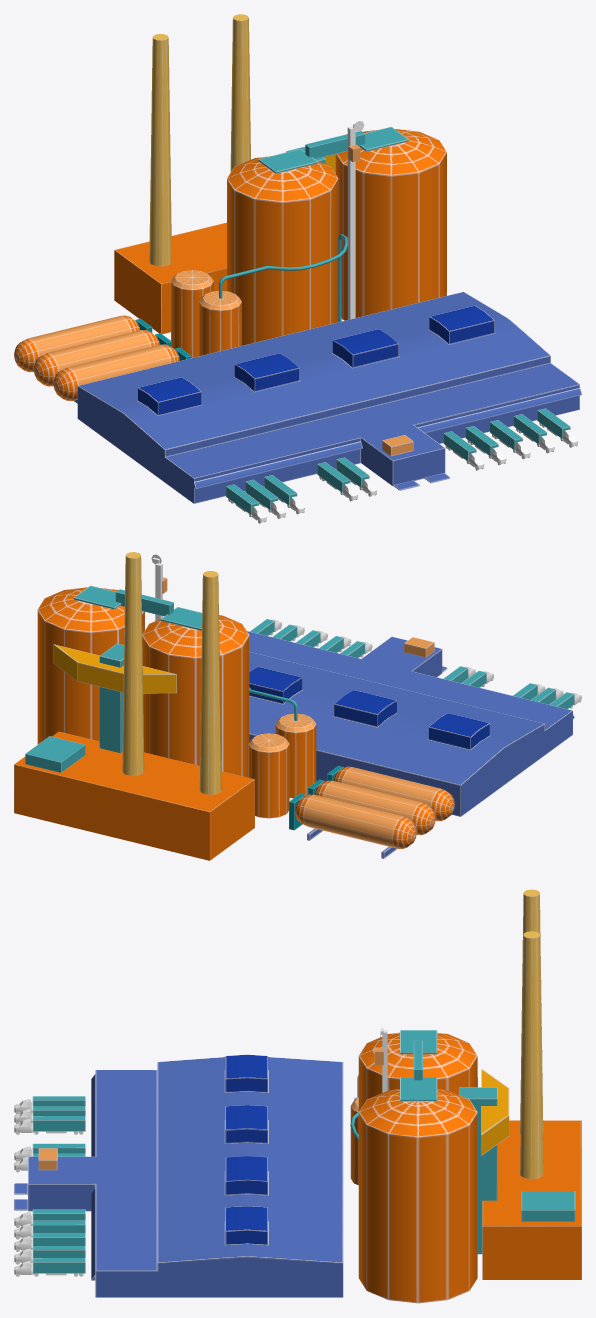
Rendered from Factory.FBX.
The picture shows the model from 3 angles, top to bottom: view 1: azimuth 30°, elevation 25°; view 2: azimuth 150°, elevation 25°; view 3: azimuth 270°, elevation 25°; orthographic projection. The views are drawn at different scales.
Parts seen in each view (by area): view 1: Box021; view 2: Box021; view 3: Box021.
Boxes of the visible parts, x1,y1,x2,y2 form: Box021: [14, 14, 581, 523]; Box021: [14, 552, 581, 860]; Box021: [14, 889, 581, 1303].
Size of the model in its own units: 8.99 by 10.28 by 5.85.
1 material, 1 textured.
